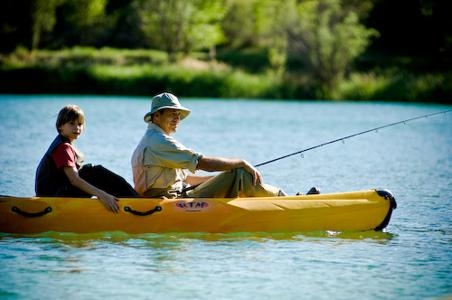person: (132, 94, 322, 201)
